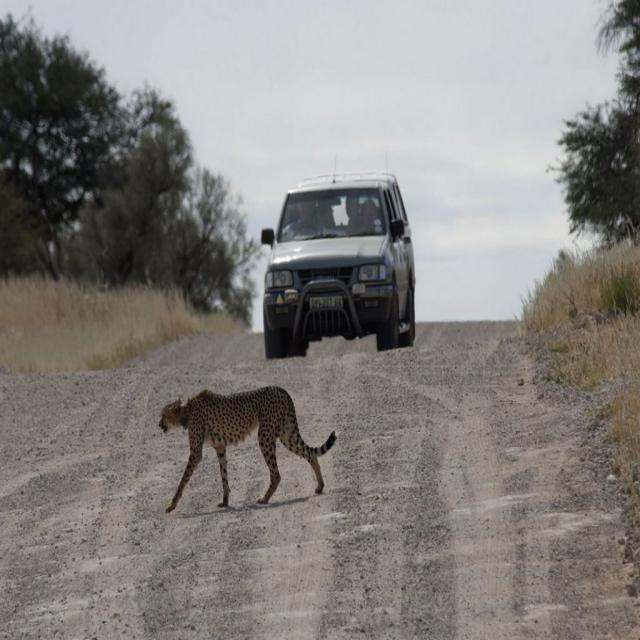Cheetah: (158, 379, 339, 515)
